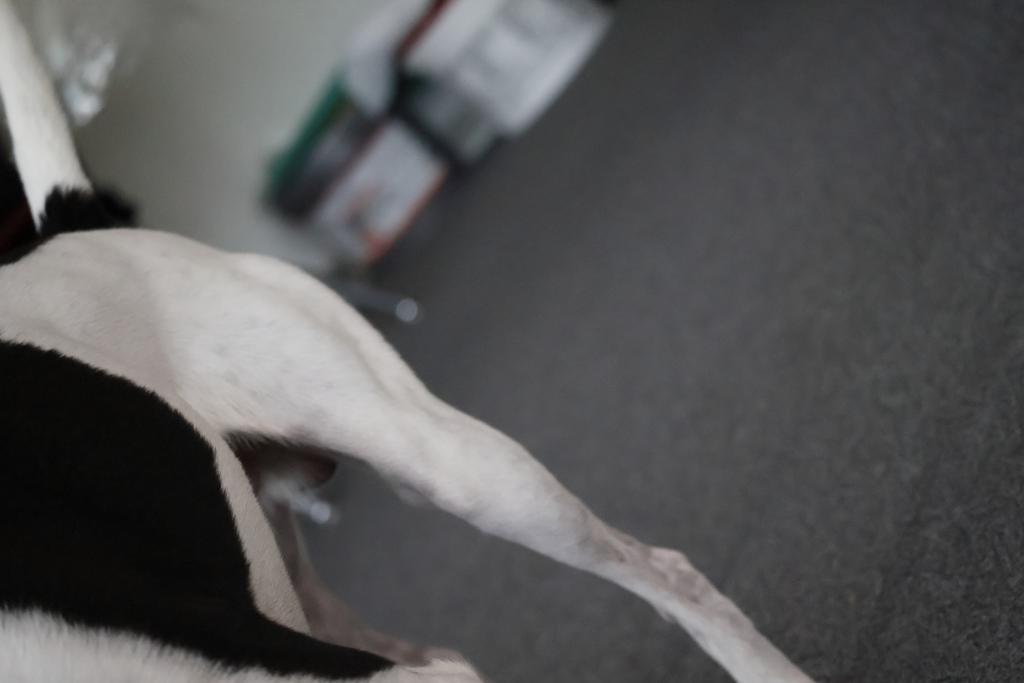Dog: (0, 0, 829, 683)
